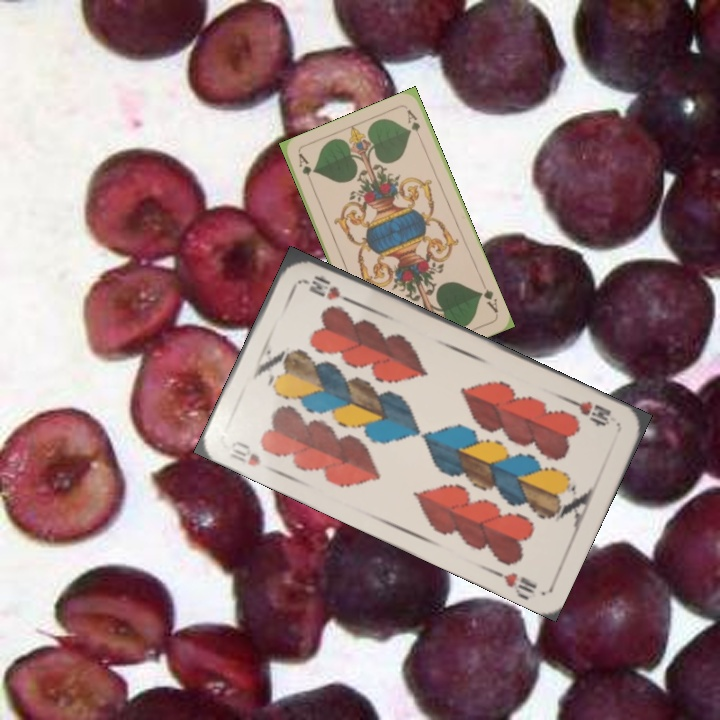GA: (475, 278, 501, 315), (294, 150, 316, 189)
H10: (564, 395, 614, 429), (224, 436, 264, 469)
